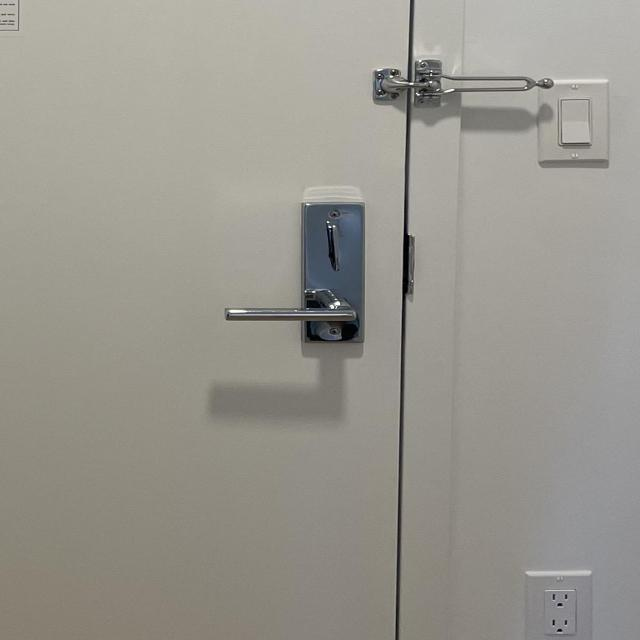door_handle: (212, 286, 368, 348)
